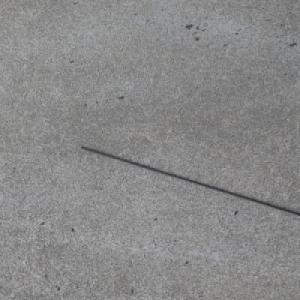LuggagePart: (79, 145, 300, 215)
